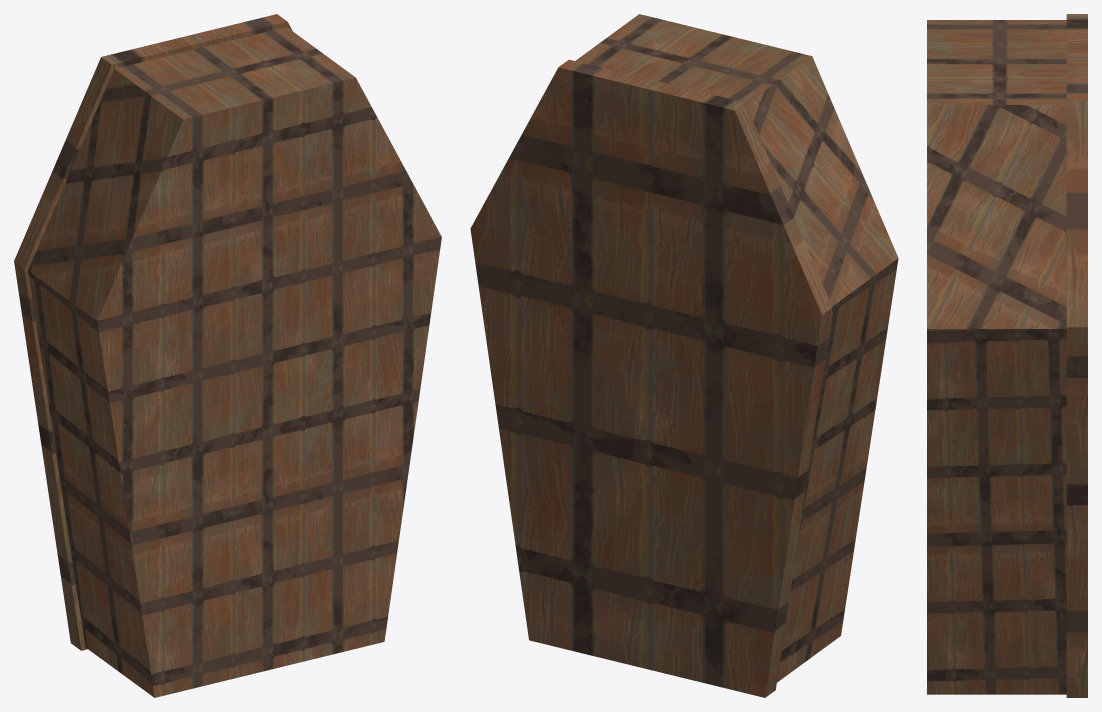
File: coffin.fbx
3 renders of one model, left to right at view 1: azimuth 30°, elevation 25°; view 2: azimuth 150°, elevation 25°; view 3: azimuth 270°, elevation 25°, orthographic.
Parts seen in each view (by area): view 1: Plane, Plane.001; view 2: Plane.001, Plane; view 3: Plane, Plane.001.
Part boxes in pixels (x1,y1,x2,y2): Plane: [28, 27, 441, 697]; Plane.001: [14, 14, 292, 650]; Plane.001: [470, 59, 832, 697]; Plane: [575, 14, 898, 682]; Plane: [927, 20, 1066, 694]; Plane.001: [1066, 14, 1087, 697].
Bounding box in the file's own units: 122 × 193 × 48.11.
